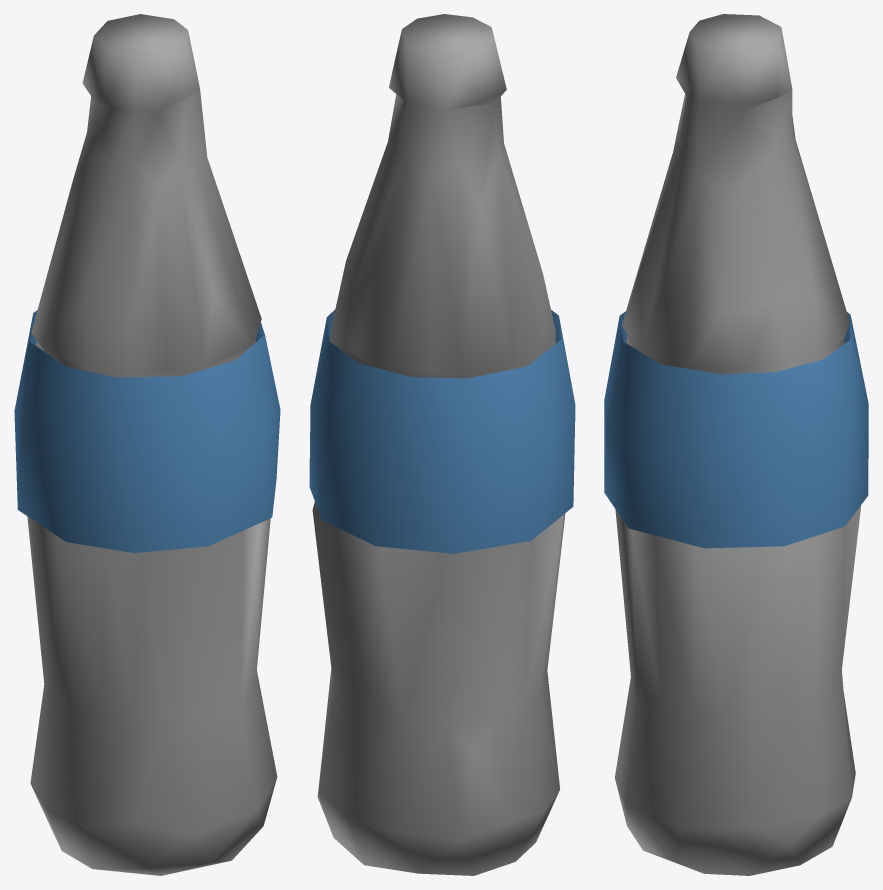
The model's file is cola.fbx.
The picture shows the model from 3 angles, left to right: view 1: azimuth 30°, elevation 25°; view 2: azimuth 150°, elevation 25°; view 3: azimuth 270°, elevation 25°; orthographic projection.
Visible parts, largest first — view 1: Object002.001; view 2: Object002.001; view 3: Object002.001.
Boxes of the visible parts, left/top/right/bottom form: Object002.001: left=14, top=14, right=280, bottom=875; Object002.001: left=309, top=14, right=575, bottom=875; Object002.001: left=604, top=14, right=868, bottom=875.
Size of the model in its own units: 6315 by 21148 by 6343.
